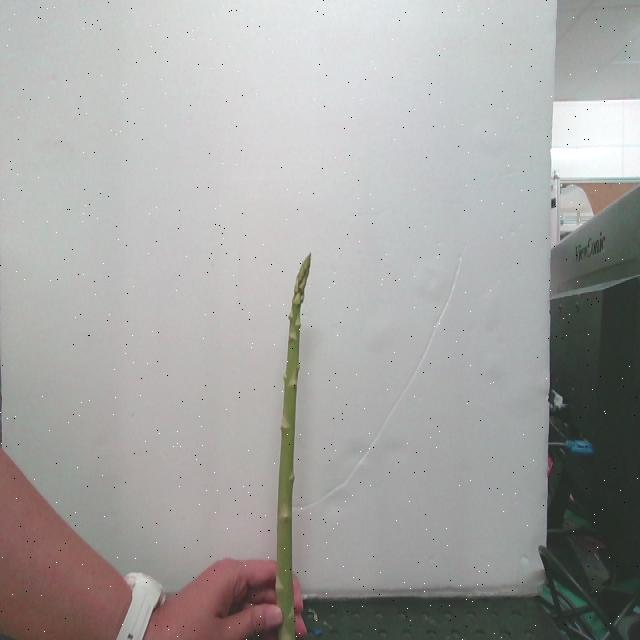aspargus: (274, 256, 311, 640)
